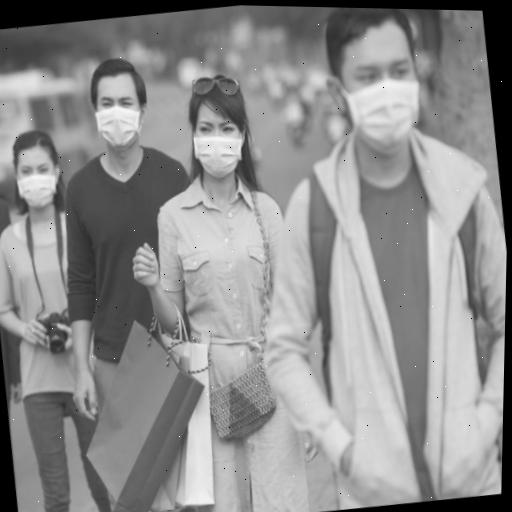mask: (315, 7, 435, 161), (178, 64, 266, 189), (81, 51, 161, 160), (0, 124, 69, 210)
